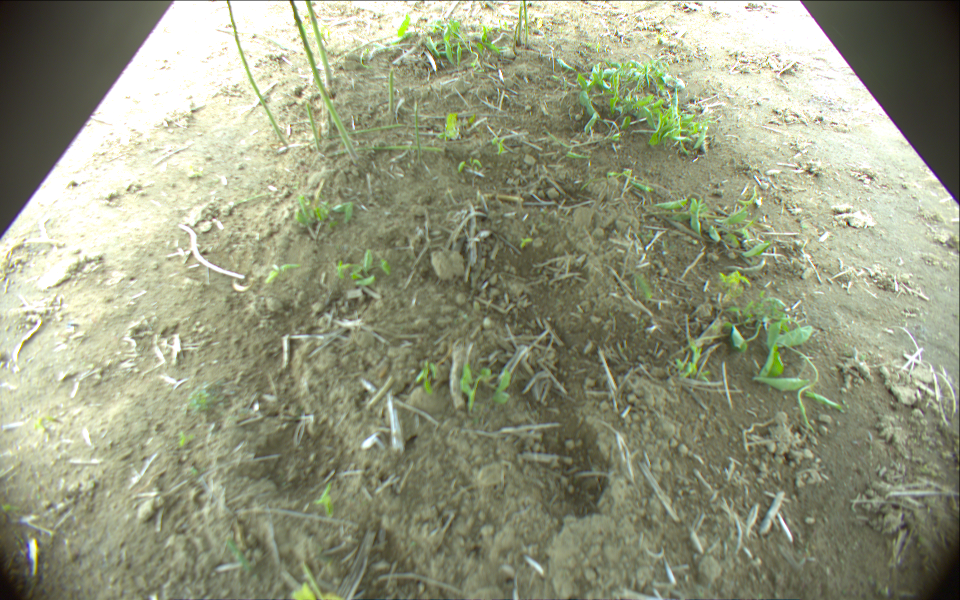aspa: (289, 1, 358, 163), (222, 1, 288, 147), (292, 120, 430, 148), (316, 142, 446, 161), (307, 1, 333, 87), (303, 102, 326, 150), (412, 101, 423, 169), (521, 1, 531, 44), (386, 68, 394, 119), (514, 1, 522, 45)
